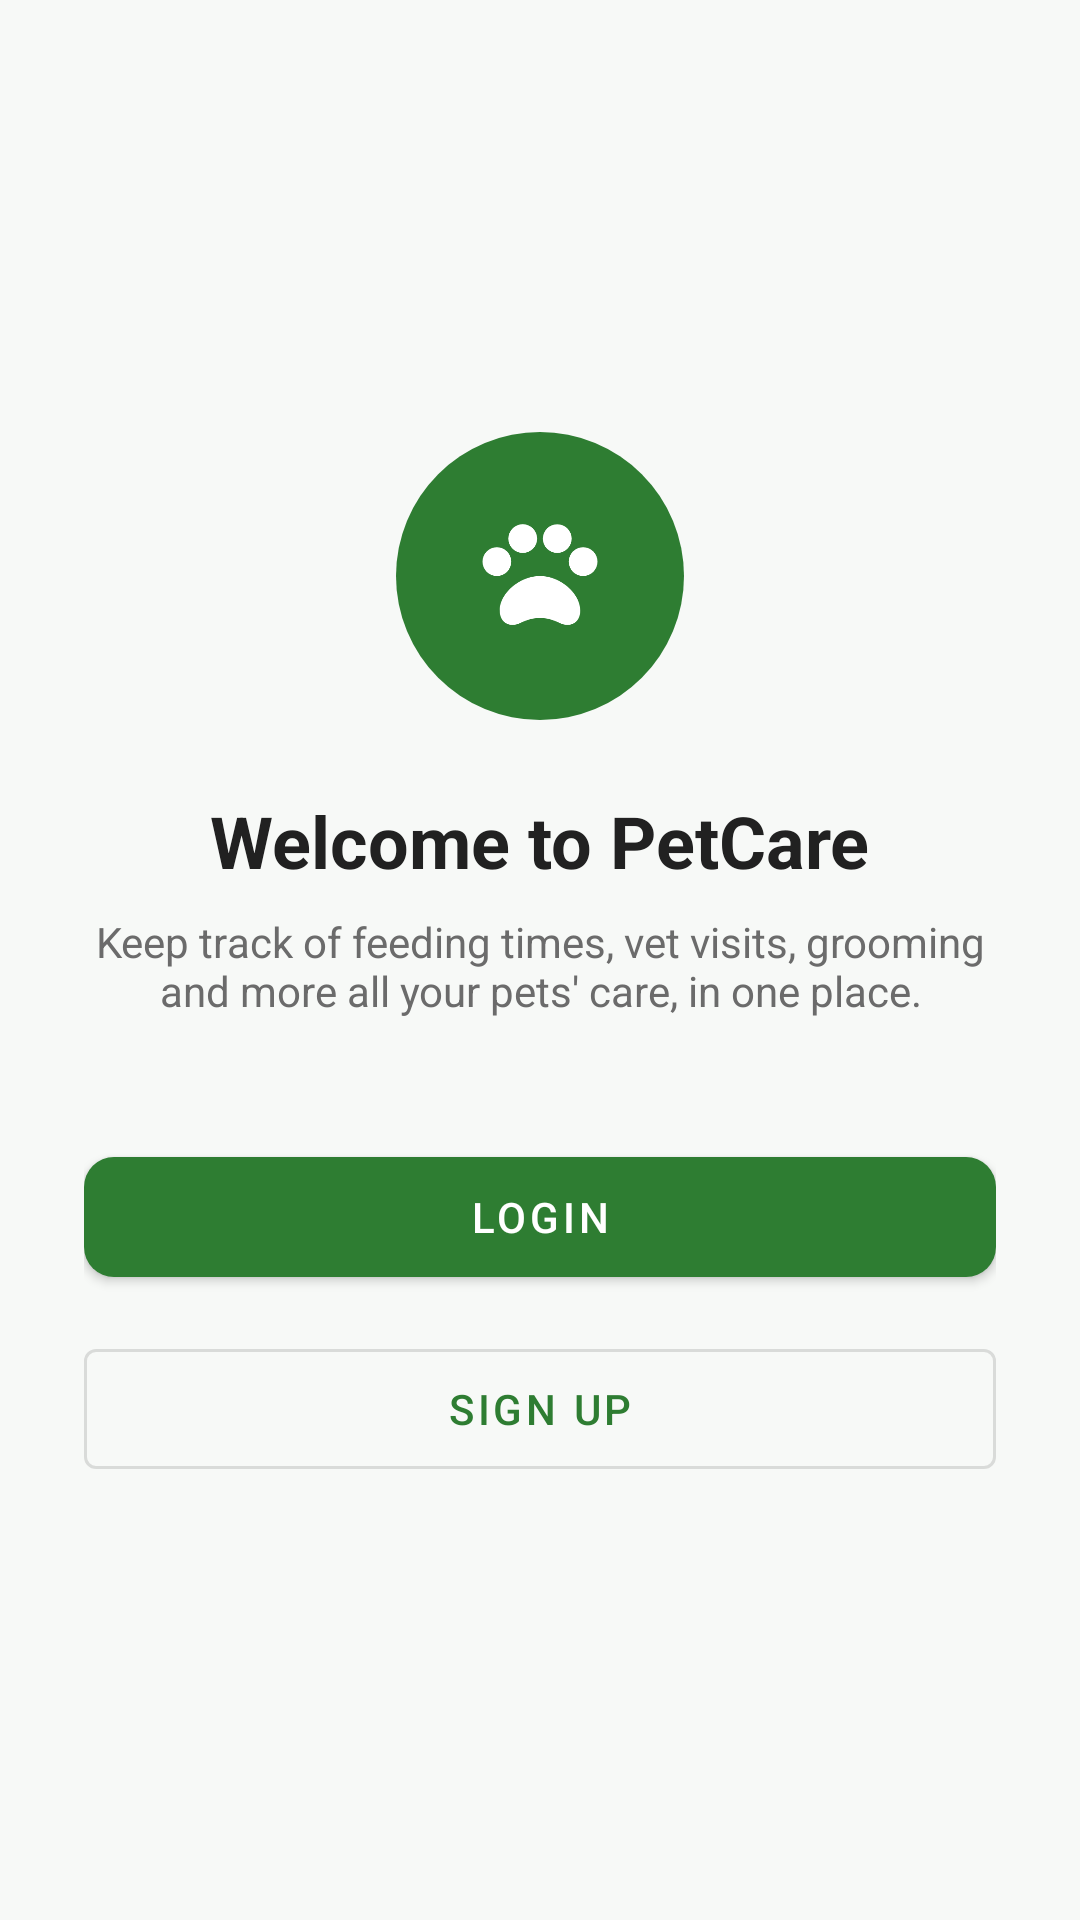

Named icons in this screenshot (1080px×1920px) and their centers, (x=x, y=y):
species paw: (x=540, y=574)
